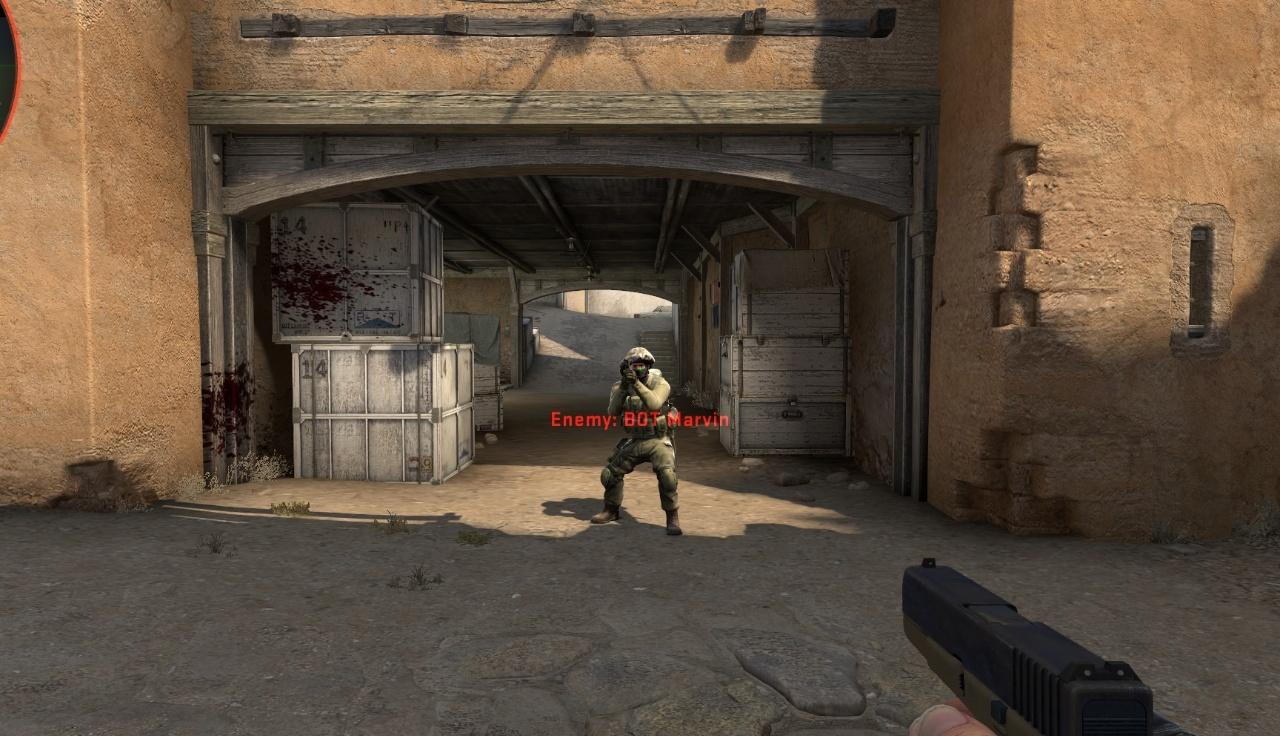ct: (593, 347, 682, 537)
cthead: (628, 348, 649, 379)
pistol: (901, 554, 1210, 736)
